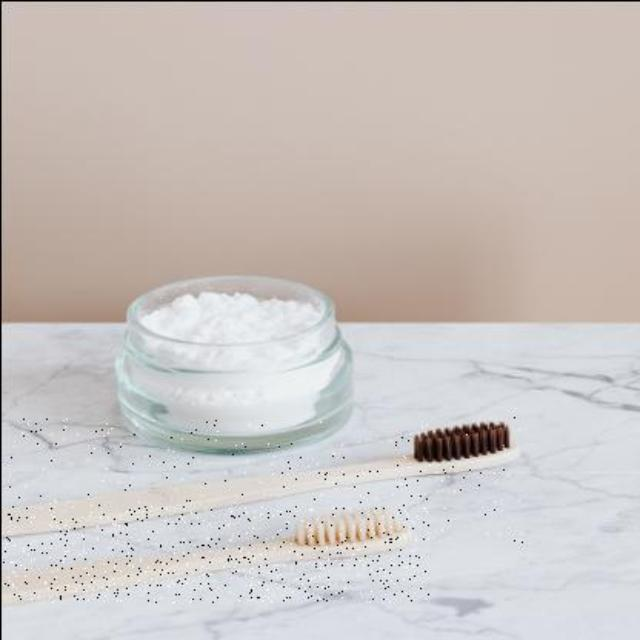toothbrush: (1, 413, 522, 542), (1, 505, 430, 601)
